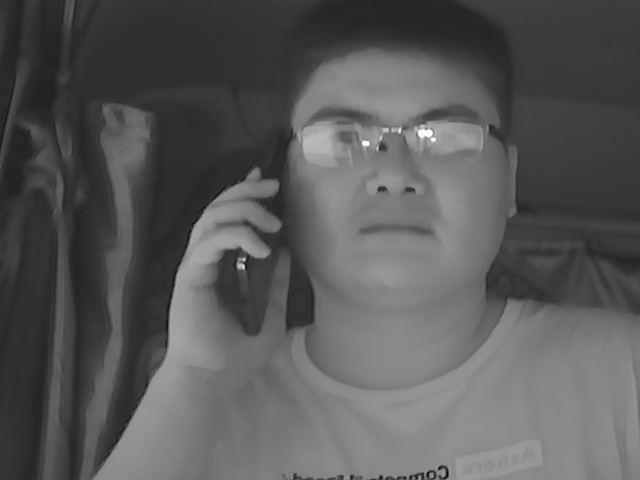hand: (166, 179, 293, 366)
